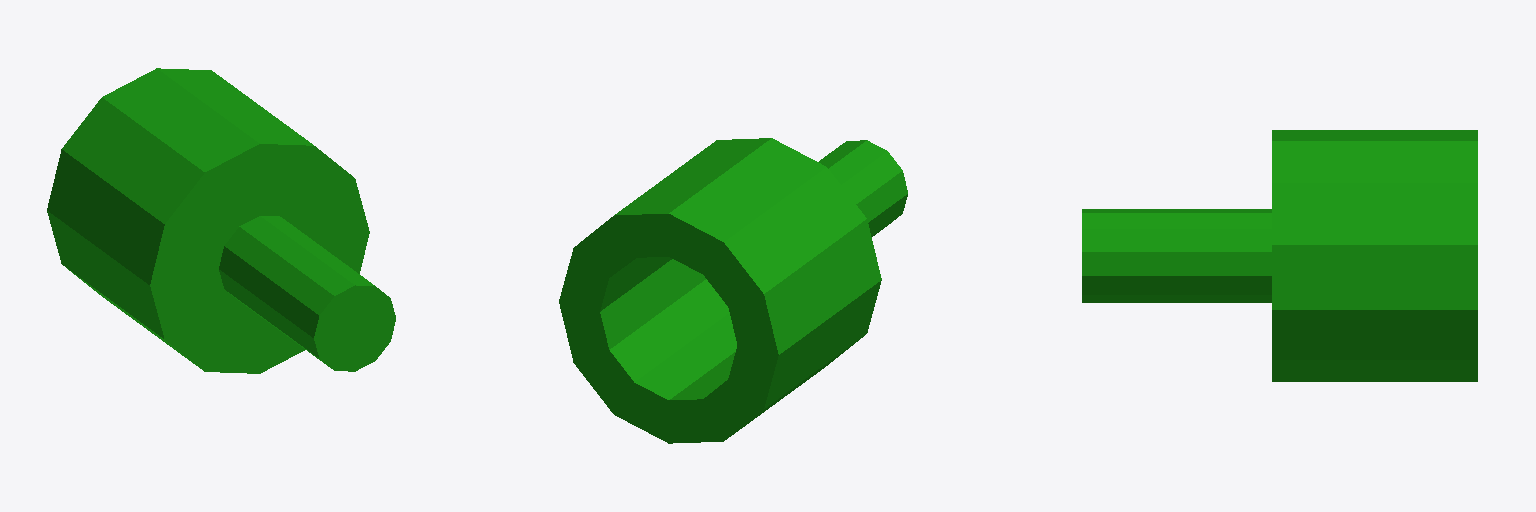
3 views of the same model, side by side, from view 1: azimuth 30°, elevation 25°; view 2: azimuth 150°, elevation 25°; view 3: azimuth 270°, elevation 25° (orthographic).
Parts seen in each view (by area): view 1: Cylinder.body_Cylinder.004; view 2: Cylinder.body_Cylinder.004; view 3: Cylinder.body_Cylinder.004.
Part boxes in pixels (x1,y1,x2,y2): Cylinder.body_Cylinder.004: (47, 68, 395, 373); Cylinder.body_Cylinder.004: (559, 138, 907, 443); Cylinder.body_Cylinder.004: (1082, 130, 1477, 381).
Size of the model in its own units: 0.08 by 0.08 by 0.125.